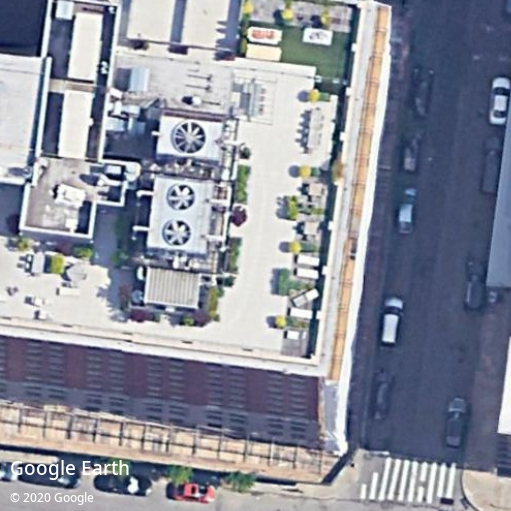Vent: (175, 121, 206, 153), (169, 184, 195, 210), (165, 220, 190, 245)
